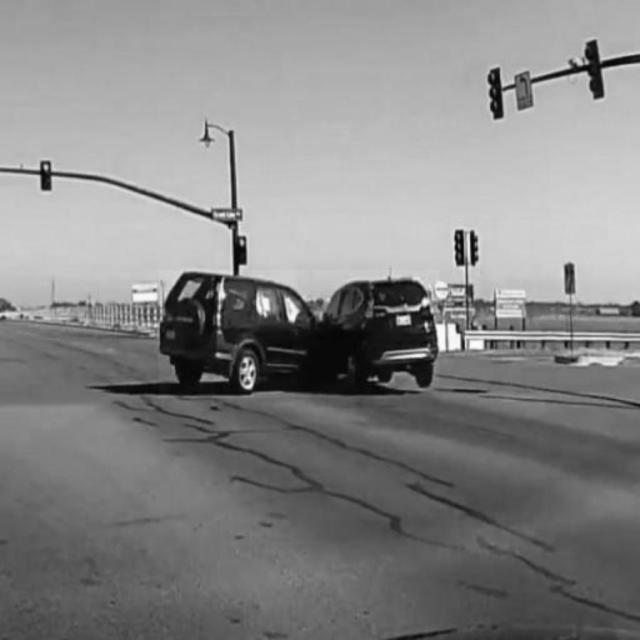accident: (159, 270, 439, 398)
